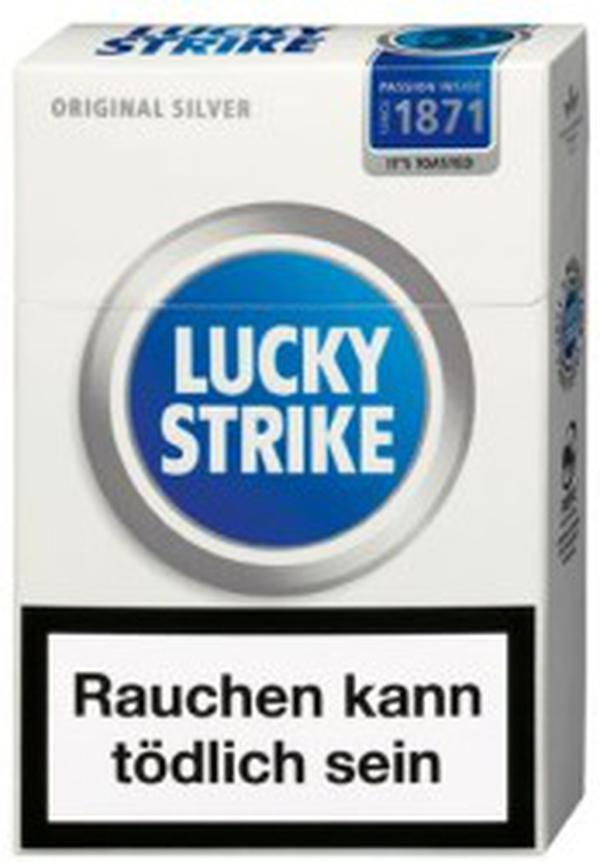lucky_strike_blue: (15, 67, 541, 848)
